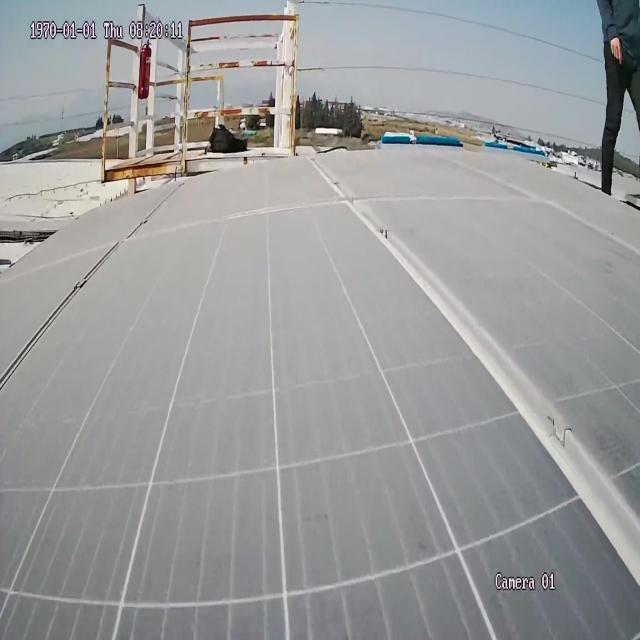interior panel: (304, 154, 640, 595), (0, 174, 198, 425)
outher panel: (0, 222, 64, 276)
